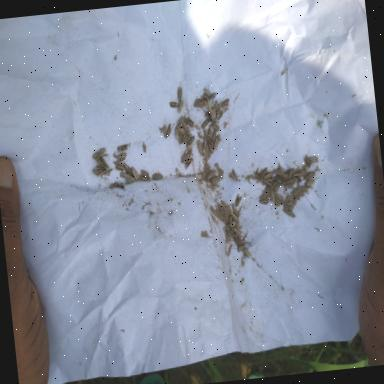pbw: (111, 180, 128, 192), (302, 153, 314, 169), (97, 168, 116, 178), (180, 149, 192, 164), (92, 148, 108, 159), (166, 123, 177, 138), (210, 175, 222, 188), (230, 210, 241, 224), (114, 153, 128, 164), (96, 157, 106, 172), (185, 136, 197, 148), (228, 168, 238, 182), (100, 156, 110, 170), (268, 186, 276, 203), (131, 167, 140, 182), (124, 162, 133, 177), (152, 170, 164, 181), (183, 158, 194, 170), (286, 208, 298, 219), (303, 171, 316, 181), (213, 136, 222, 150), (206, 170, 217, 181), (202, 88, 212, 100), (278, 172, 290, 182), (176, 116, 186, 128), (242, 248, 252, 260), (117, 144, 129, 154), (234, 194, 243, 207), (92, 167, 106, 175), (220, 100, 231, 110), (258, 168, 268, 179), (183, 133, 193, 144), (268, 180, 279, 190), (292, 175, 304, 184), (177, 124, 186, 136), (177, 87, 184, 102), (183, 120, 190, 135), (194, 100, 207, 108), (185, 118, 195, 128), (200, 120, 210, 130), (216, 110, 225, 121), (292, 171, 306, 178), (231, 202, 238, 216), (304, 180, 316, 188), (262, 172, 274, 180), (208, 140, 214, 156), (307, 156, 319, 164), (262, 178, 274, 186), (287, 168, 295, 180), (139, 174, 150, 182), (181, 133, 188, 145), (163, 125, 169, 139), (198, 142, 204, 156), (212, 130, 218, 144), (282, 179, 294, 186), (210, 124, 220, 132), (175, 126, 180, 142), (178, 100, 184, 113), (233, 227, 241, 236), (116, 164, 125, 172), (206, 128, 212, 140), (237, 244, 246, 252), (260, 198, 270, 205), (202, 138, 207, 152), (204, 156, 212, 164), (170, 102, 180, 108), (142, 170, 148, 180), (178, 130, 182, 144), (228, 216, 234, 224), (202, 94, 210, 100)
